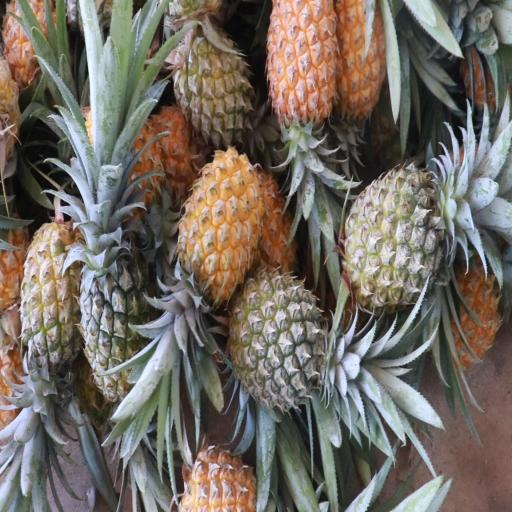------------------------------: (18, 215, 83, 453)
Pineapple - v8 v1: (169, 153, 274, 340), (266, 0, 338, 213), (335, 0, 390, 163)
